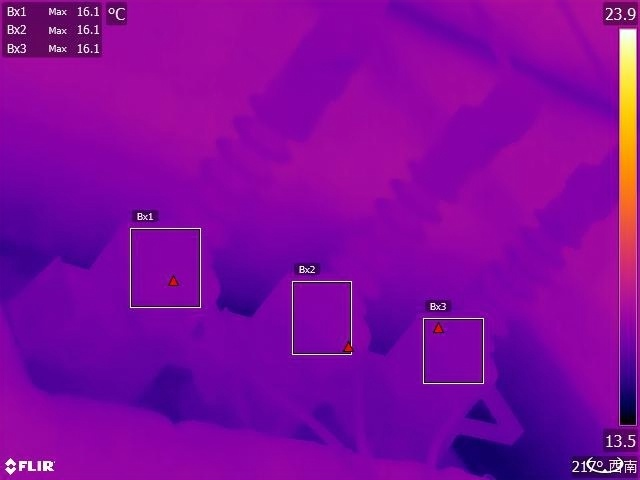tube: (65, 10, 374, 364), (268, 74, 544, 360), (421, 143, 619, 379)
